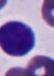L: (0, 20, 36, 56)
